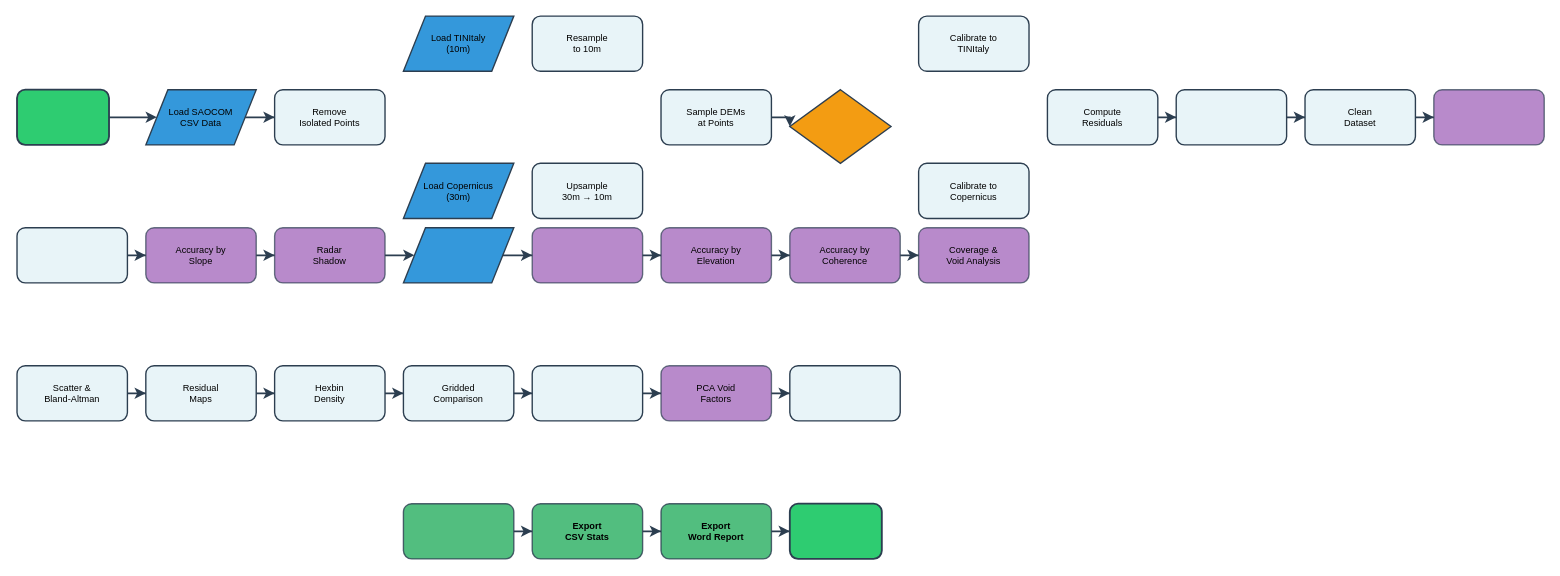
Some shapes in this 1560 by 576 pixel diagram are drawn without their labels. The centre of each missing label's shape, as x and y in pixels:
Accuracy by Land Cover: the point at 587,255
Calculate Bias/RMSE/NMAD: the point at 1488,117
Compute Slope/Aspect: the point at 72,255
END: the point at 835,530
Export Shapefile: the point at 458,531
Load CORINE Land Cover: the point at 458,255
Outlier Detection: the point at 1231,117
Select Control Points (coh ≥ 0.8): the point at 840,126
START: the point at 62,116
Summary Dashboard: the point at 844,393
Violin & Distribution: the point at 587,393
